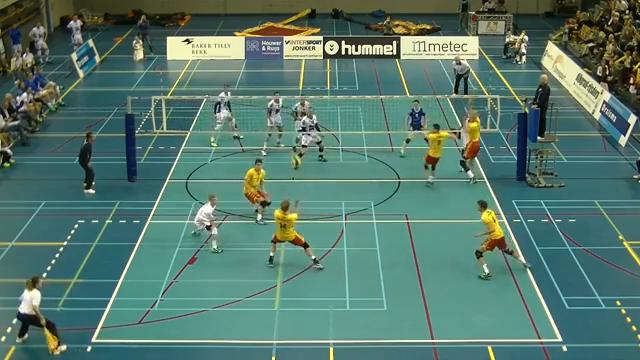Dig: (263, 197, 330, 272)
Player: (475, 200, 529, 279), (210, 84, 242, 146), (424, 123, 456, 184), (293, 109, 325, 168), (191, 194, 222, 252), (244, 159, 271, 225), (460, 110, 480, 183), (400, 100, 425, 156), (261, 92, 283, 155), (291, 96, 311, 144)
ball: (291, 157, 302, 171)
